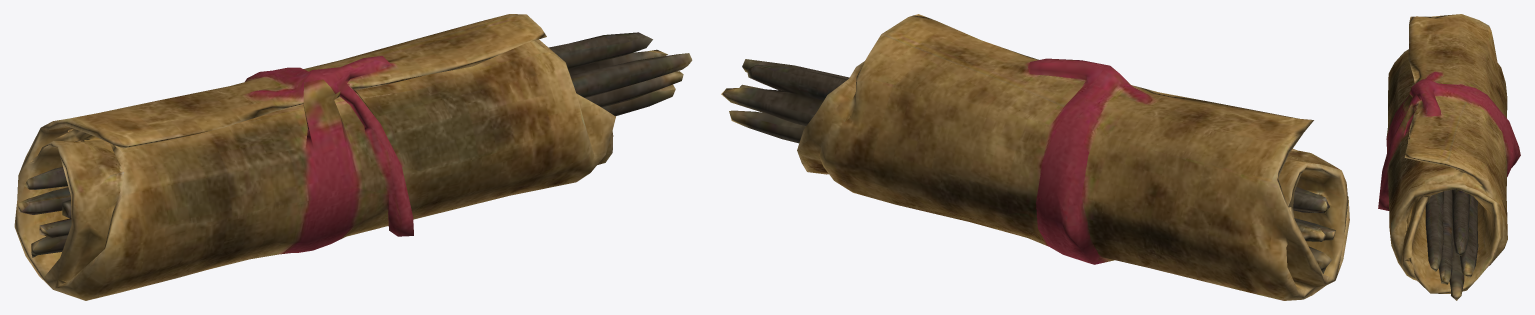
The model's file is incense.glb.
3 views of the same model, side by side, from view 1: azimuth 30°, elevation 25°; view 2: azimuth 150°, elevation 25°; view 3: azimuth 270°, elevation 25° (orthographic). The views are drawn at different scales.
Visible parts, largest first — view 1: Mesh_0; view 2: Mesh_0; view 3: Mesh_0.
Boxes of the visible parts, left/top/right/bottom form: Mesh_0: left=14, top=14, right=692, bottom=300; Mesh_0: left=721, top=14, right=1349, bottom=300; Mesh_0: left=1378, top=14, right=1520, bottom=300.
Size of the model in its own units: 1 by 0.2668 by 0.2769.
1 material, 1 textured.
